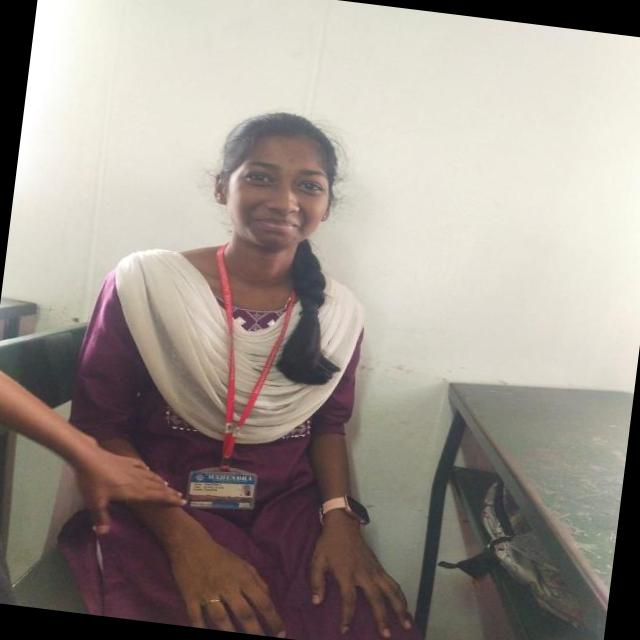id_card: (186, 245, 306, 516)
